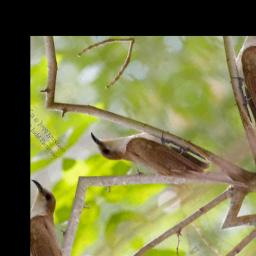Cuckoo: (84, 88, 212, 214)
